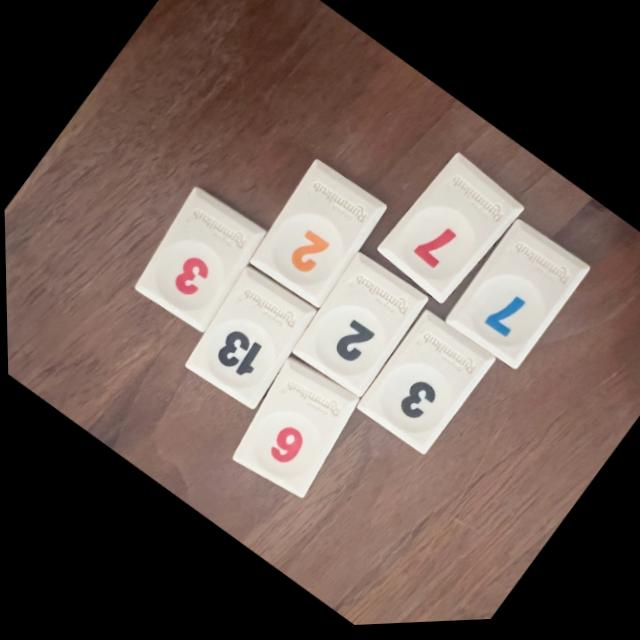black_13: (184, 269, 314, 411)
black_2: (290, 256, 426, 401)
black_3: (354, 315, 493, 458)
blue_7: (444, 225, 588, 374)
orange_2: (249, 163, 385, 310)
red_3: (133, 190, 264, 334)
red_6: (231, 360, 356, 500)
red_7: (377, 158, 522, 307)
